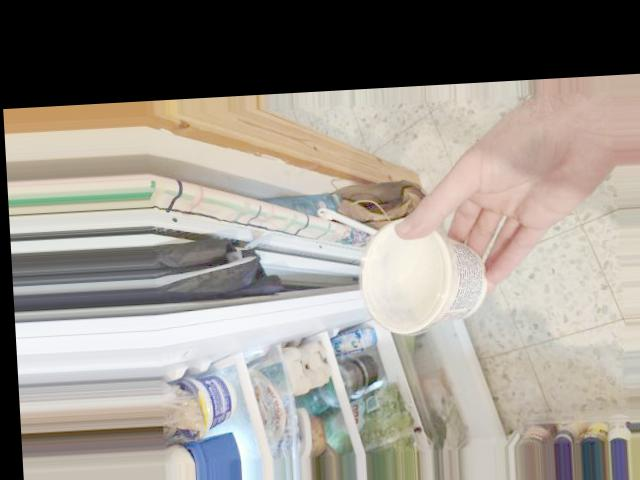cotage: (363, 228, 488, 333)
